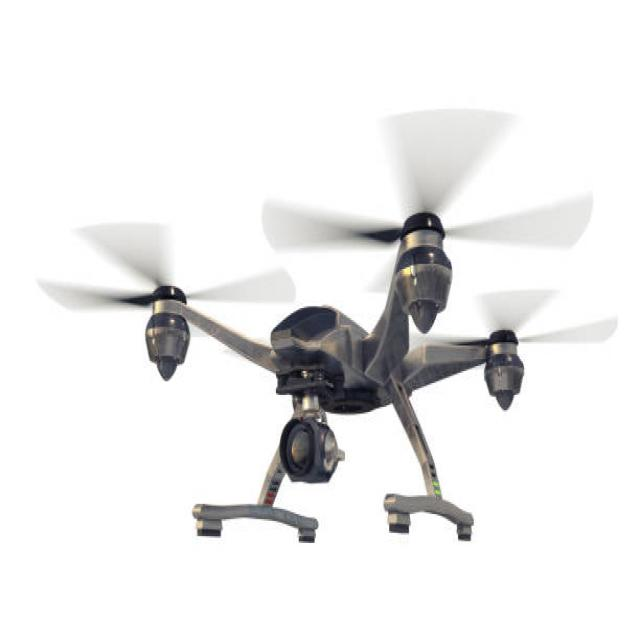drone: (26, 100, 624, 572)
